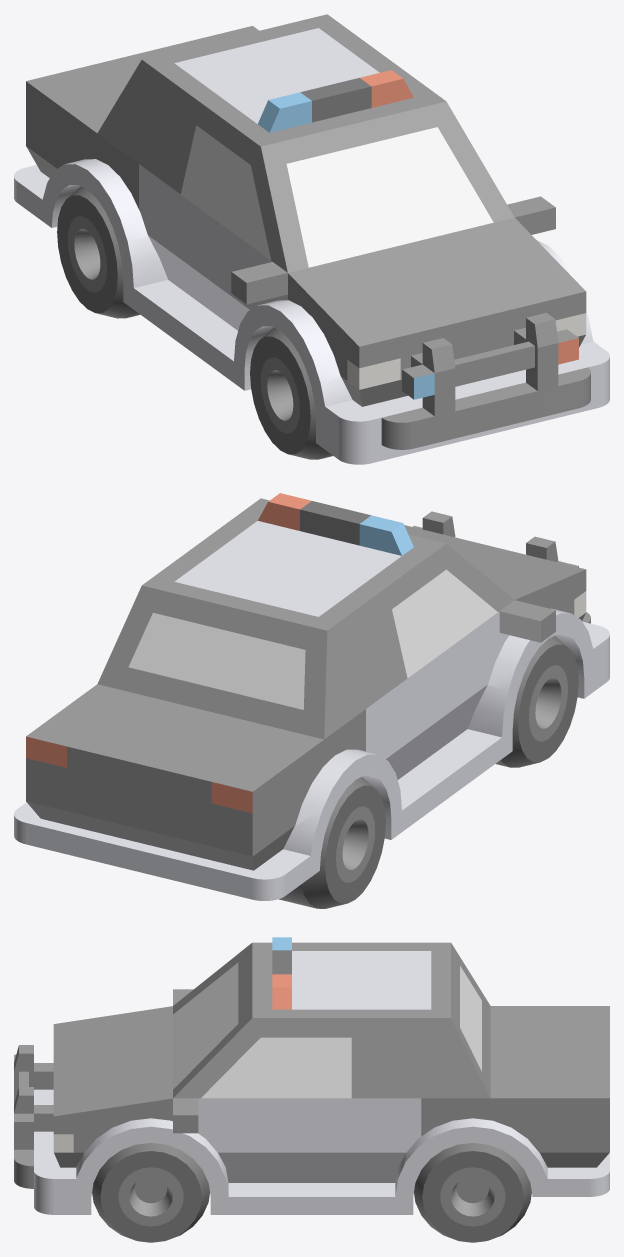
The model's file is policecar.gltf.
The picture shows the model from 3 angles, top to bottom: view 1: azimuth 30°, elevation 25°; view 2: azimuth 150°, elevation 25°; view 3: azimuth 270°, elevation 25°; orthographic projection. The views are drawn at different scales.
Visible parts, largest first — view 1: police; view 2: police; view 3: police.
Boxes of the visible parts, <box> form: police: <box>14,14,609,464</box>; police: <box>14,493,609,908</box>; police: <box>14,937,609,1242</box>.
Size of the model in its own units: 1.12 by 0.975 by 2.25.
